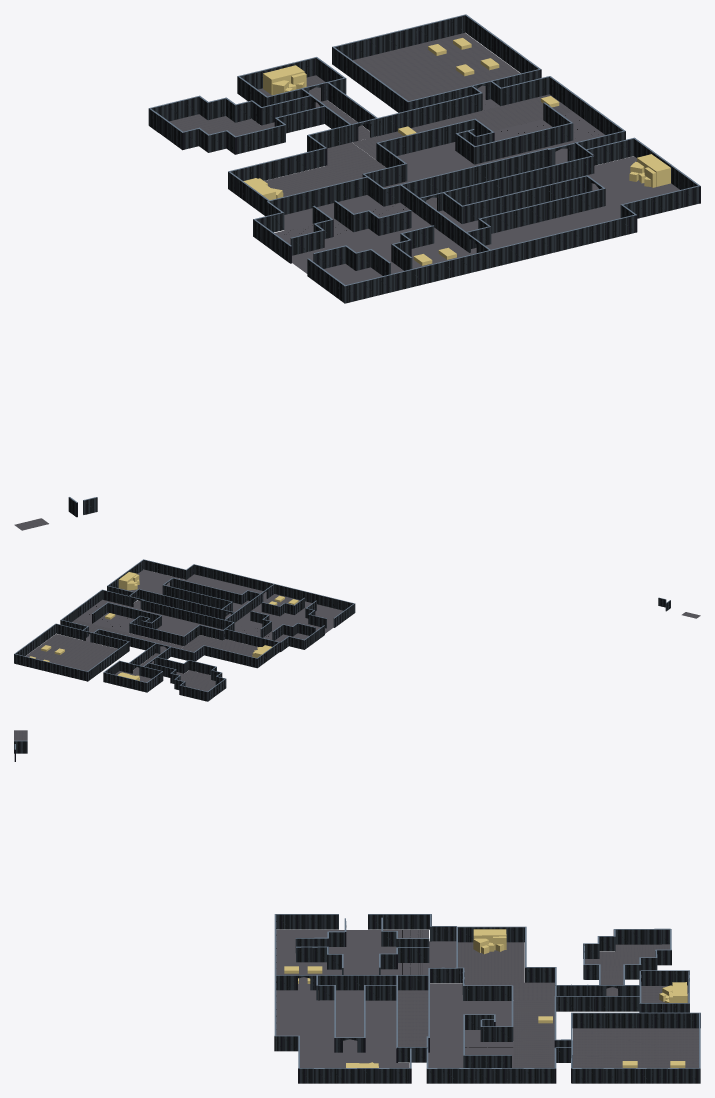
Rendered from King'sThrone.fbx.
3 renders of one model, top to bottom at view 1: azimuth 30°, elevation 25°; view 2: azimuth 150°, elevation 25°; view 3: azimuth 270°, elevation 25°, orthographic. The views are drawn at different scales.
Visible parts, largest first — view 1: Plane.013, Plane.012, Wall.676, Plane.011, Wall.655, Wall.696, Wall.666, Wall.525, Wall.593, Wall.712, Wall.707, Wall.542 (+20 smaller); view 2: Plane.013, Plane.012, Wall.676, Plane.011, Wall.655, Wall.666, Wall.696, Wall.593, Wall.707, Wall.712, Wall.730, Wall.525 (+23 smaller); view 3: Plane.013, Plane.011, Plane.012, Plane, Wall.578, Wall.601, Wall.616, Wall.630, Plane.002, Wall.525, Wall.655, Wall.649 (+13 smaller).
Boxes of the visible parts, x1,y1,x2,y2 form: Plane.013: [274, 156, 679, 284]; Plane.012: [353, 33, 520, 110]; Wall.676: [343, 214, 635, 303]; Plane.011: [383, 94, 604, 188]; Wall.655: [269, 143, 407, 214]; Wall.696: [443, 156, 594, 205]; Wall.666: [401, 148, 550, 197]; Wall.525: [148, 95, 261, 142]; Wall.593: [334, 14, 465, 60]; Wall.712: [478, 188, 605, 233]; Wall.707: [461, 175, 587, 223]; Wall.542: [173, 117, 285, 154]; Plane.013: [119, 569, 343, 641]; Plane.012: [26, 634, 117, 671]; Wall.676: [194, 564, 355, 612]; Plane.011: [72, 599, 222, 646]; Wall.655: [184, 620, 278, 646]; Wall.666: [142, 600, 223, 629]; Wall.696: [139, 589, 221, 618]; Wall.593: [15, 654, 87, 681]; Wall.707: [162, 585, 232, 611]; Wall.712: [172, 578, 242, 604]; Wall.730: [129, 615, 183, 645]; Wall.525: [170, 669, 220, 701]; Plane.013: [276, 930, 456, 1067]; Plane.011: [428, 983, 554, 1067]; Plane.012: [553, 1028, 698, 1067]; Plane: [458, 942, 524, 982]; Wall.578: [572, 1012, 700, 1028]; Wall.601: [571, 1068, 700, 1083]; Wall.616: [427, 1068, 555, 1083]; Wall.630: [298, 1068, 410, 1083]; Plane.002: [513, 1000, 554, 1038]; Wall.525: [625, 928, 671, 979]; Wall.655: [428, 927, 512, 1000]; Wall.649: [316, 975, 429, 990].
Size of the model in its own units: 61077 by 1251 by 50174.
Materials: 4 (3 with a texture image).
